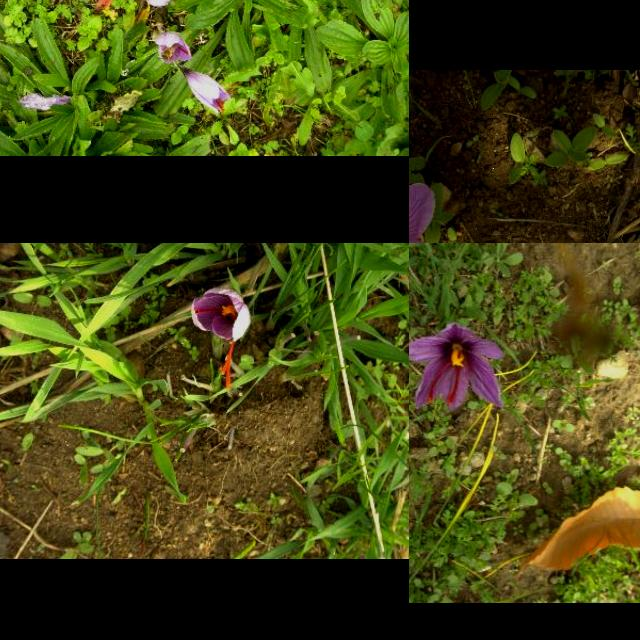flower: (409, 324, 505, 412), (190, 288, 252, 390), (180, 67, 232, 116), (152, 32, 192, 64), (144, 0, 173, 8)
